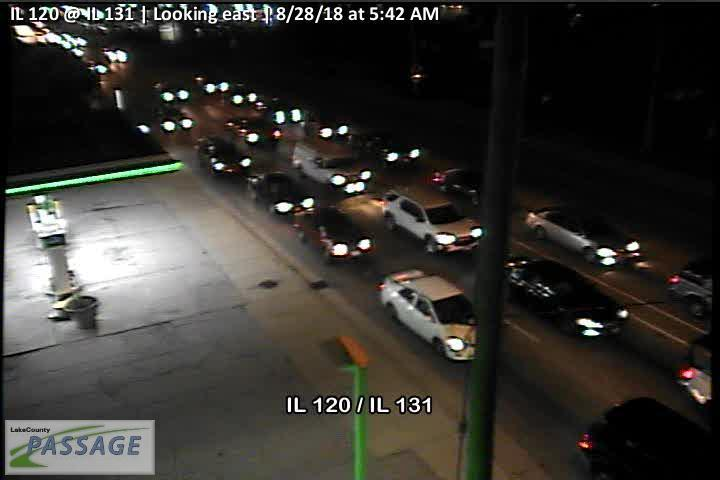SUV: (381, 182, 485, 257), (290, 136, 375, 195)
Sedan: (506, 260, 633, 340), (379, 269, 480, 362), (526, 204, 642, 266), (292, 204, 377, 263), (247, 171, 317, 218), (194, 136, 258, 178), (434, 164, 485, 208), (224, 116, 281, 147)
